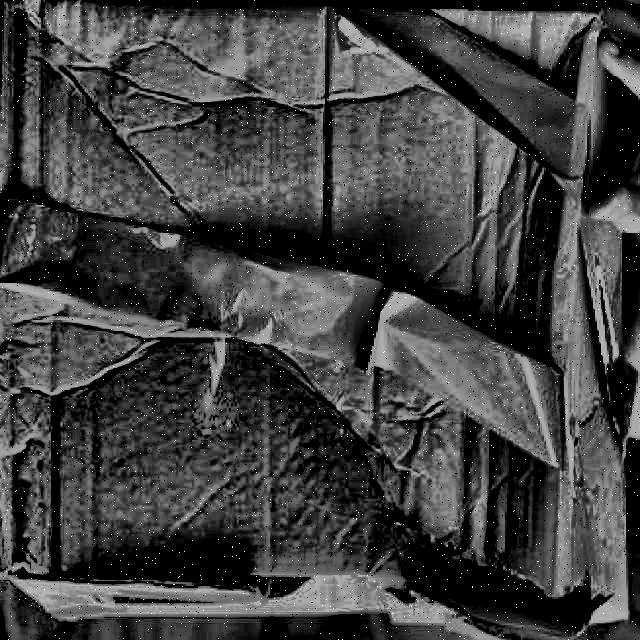box: (1, 1, 636, 635)
hole: (402, 540, 612, 632)
